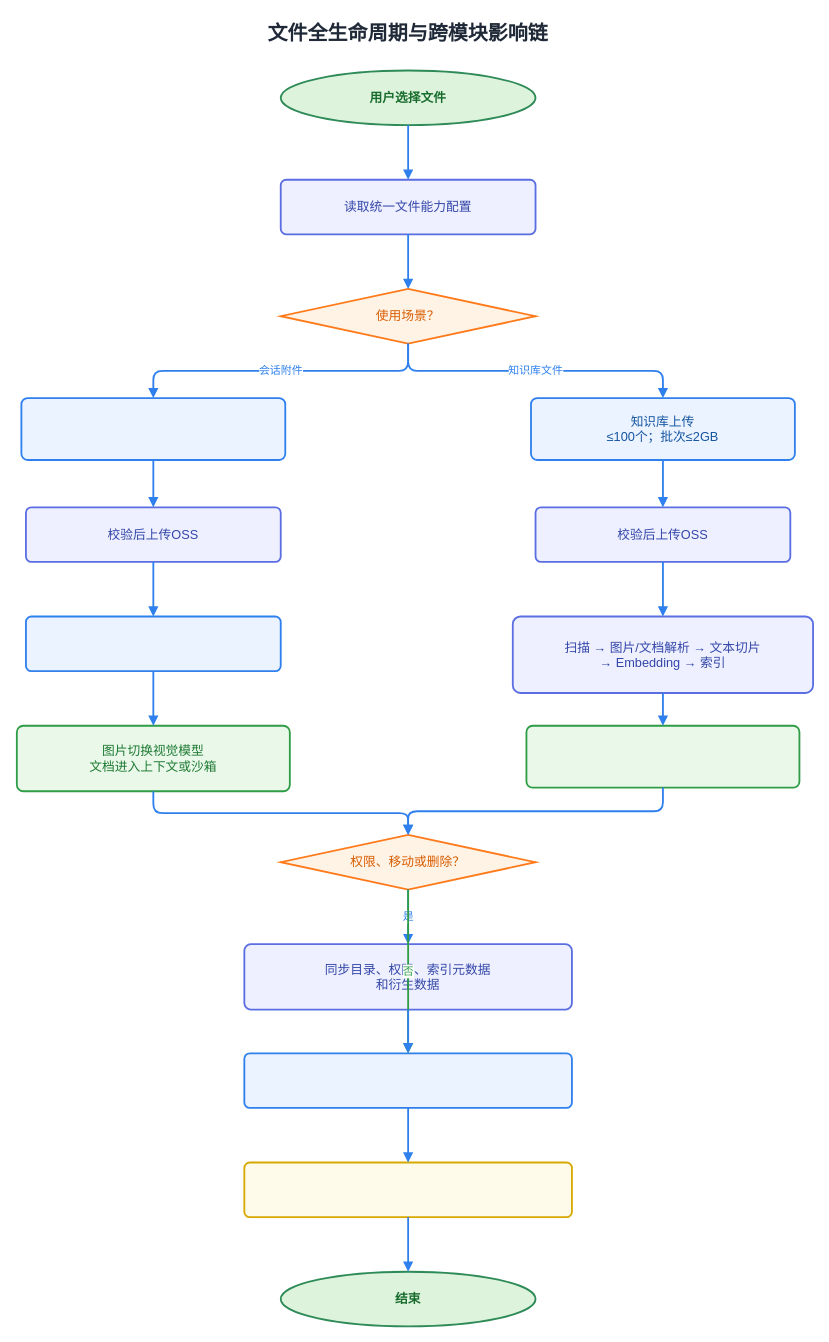
Image size: 829x1342. Some labels were removed from this diagram. Each missing label, with the centre of its shape:
"会话使用 / 公共+个人知识检索" belongs at [407,1080].
"会话附件 ≤10个；批次≤1GB" belongs at [153,428].
"分场景统计用量、成本与状态" belongs at [407,1189].
"索引完成，状态变为可检索" belongs at [662,756].
"进入会话详情并发起任务" belongs at [153,643].
